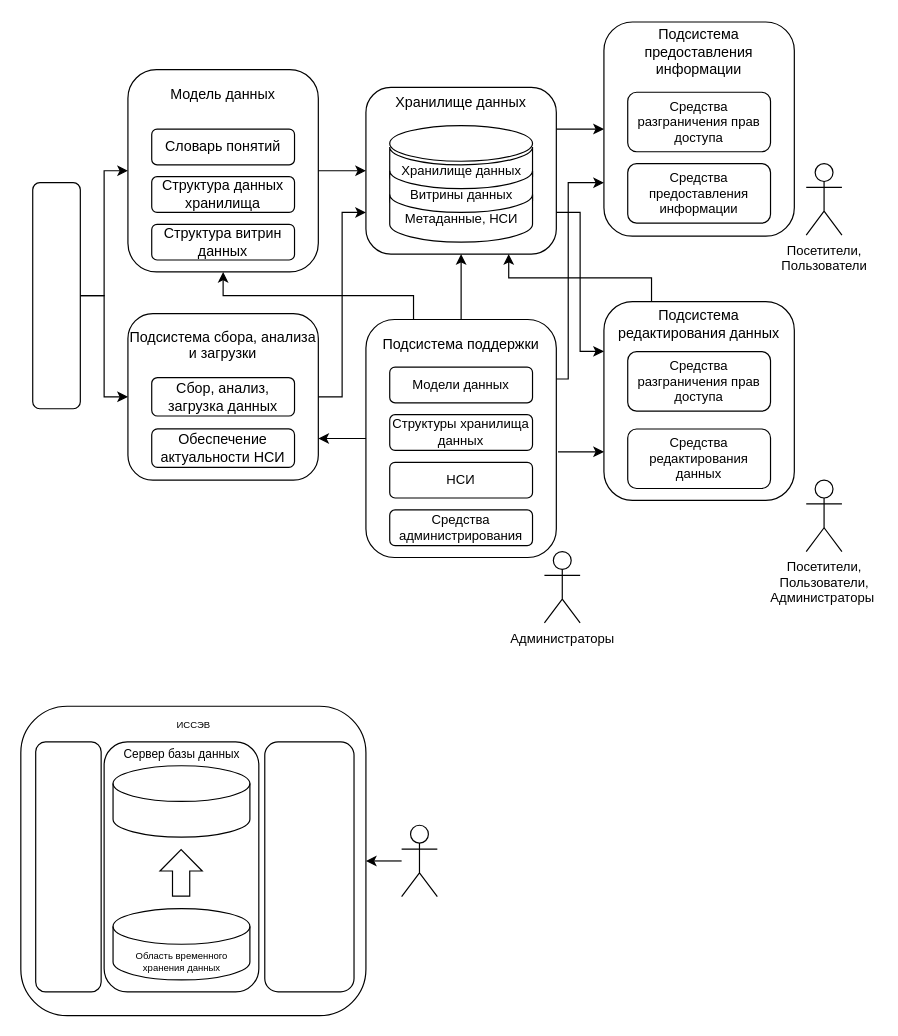
Image size: 898x1036. Some labels were removed from this diagram. The shapes that lost their labels are listed below. From the top down, each one's centre as x and y in pixels, then its label:
the point at 56,295: Внешние системы
the point at 181,801: Область постоянного хранения данных
the point at 68,866: Сервер BI
the point at 309,866: ETL Приложение
the point at 418,860: Пользователь
